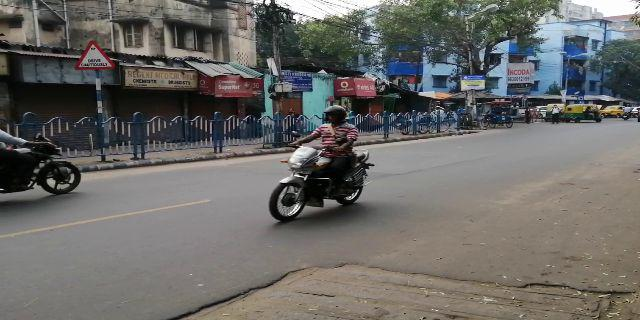Motorbike: (266, 106, 369, 220), (1, 130, 83, 201)
